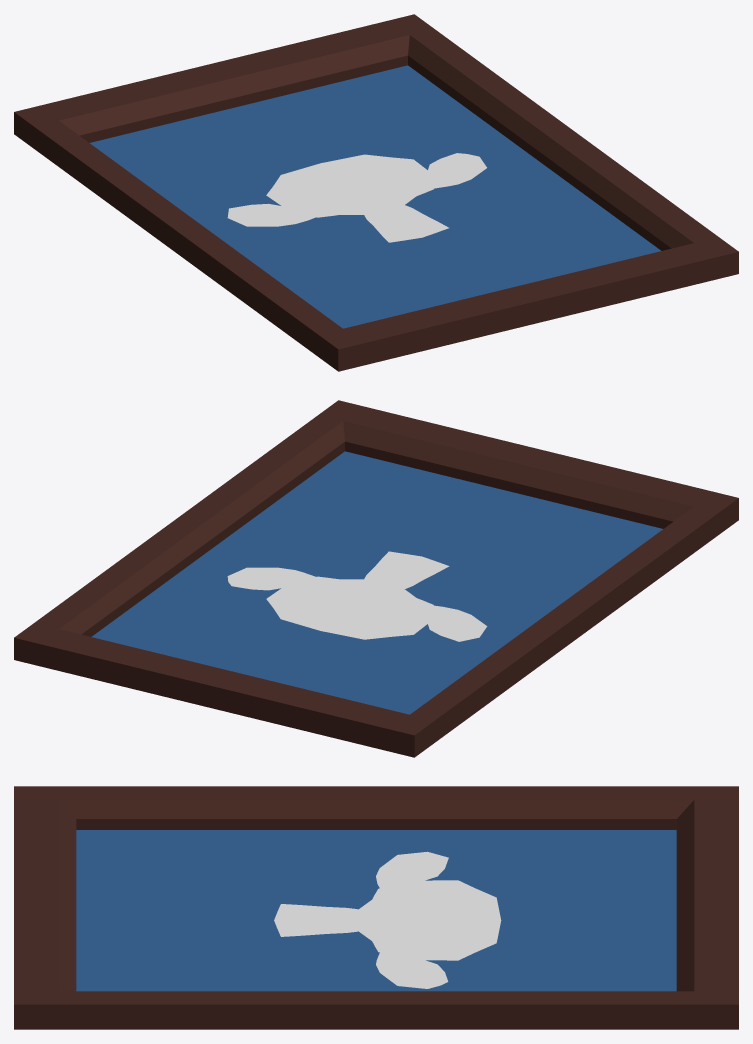
File: Painting.glb
3 views of the same model, one above another, from view 1: azimuth 30°, elevation 25°; view 2: azimuth 150°, elevation 25°; view 3: azimuth 270°, elevation 25° (orthographic). The views are drawn at different scales.
Parts seen in each view (by area): view 1: Painting; view 2: Painting; view 3: Painting.
Boxes of the visible parts, <box> form: Painting: <box>14,14,738,371</box>; Painting: <box>14,400,738,757</box>; Painting: <box>14,786,738,1029</box>.
Size of the model in its own units: 0.1909 by 0.0101 by 0.2679.
Materials: 1 (1 with a texture image).
